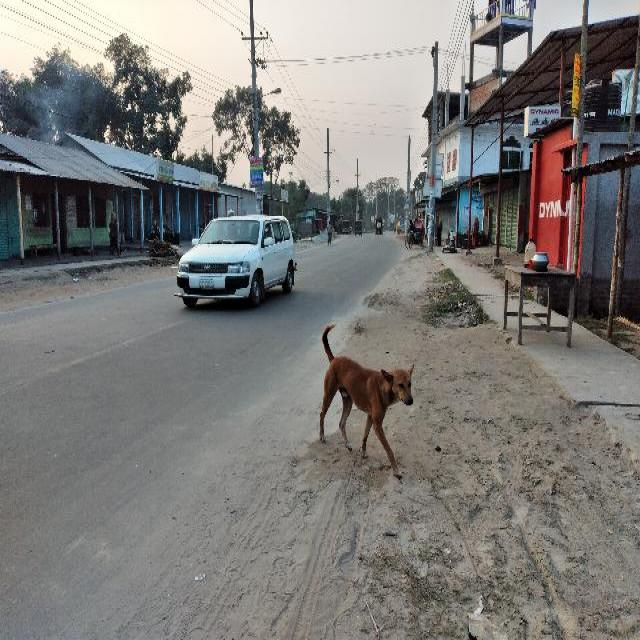bike: (147, 222, 176, 244), (327, 220, 334, 246)
vehicle: (172, 215, 305, 315), (405, 217, 426, 249), (396, 214, 414, 236), (376, 219, 385, 239), (355, 220, 363, 238), (342, 220, 350, 236)
